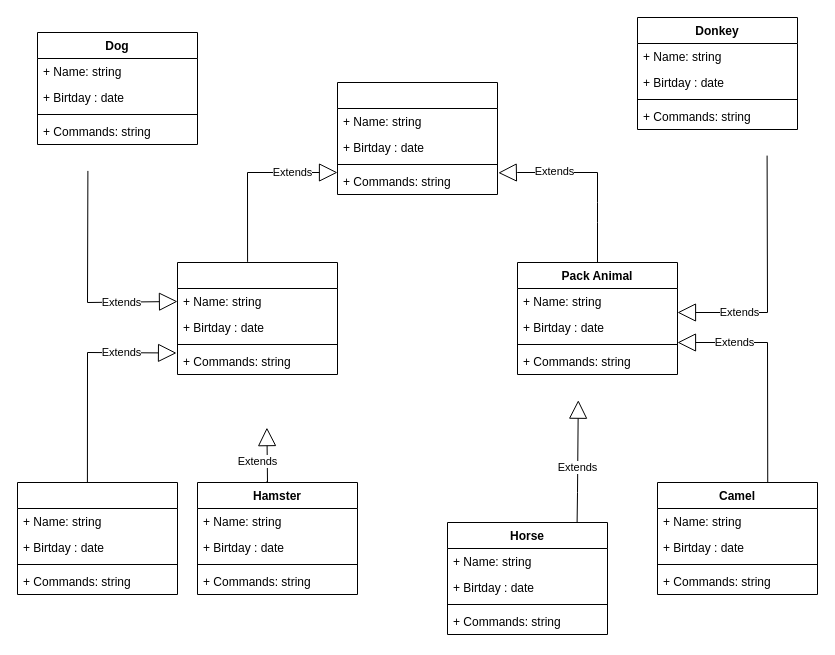
The diagram is 835 pixels wide and 655 high, and some of its shapes have lost their labels. Here are the shapes that lost their labels. From the top down, the box of each, then its label:
(336, 82, 498, 194): Human Friend
(176, 262, 338, 374): Pet
(16, 482, 178, 594): Cat
